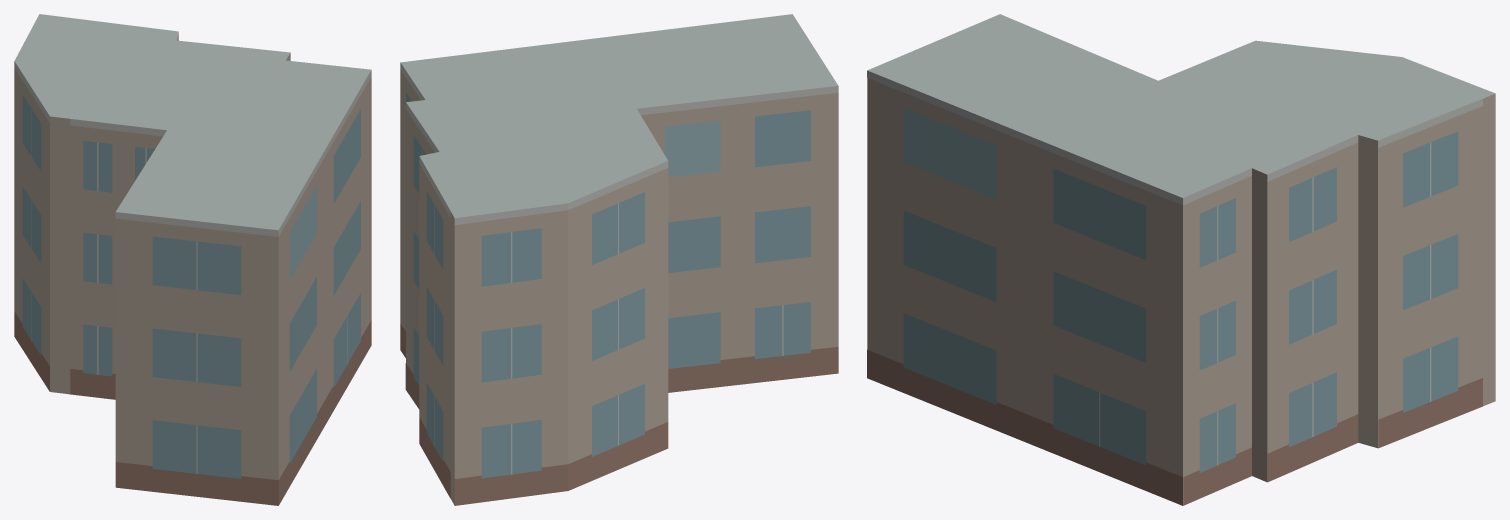
The model's file is survey-upis-32974025.glb.
3 views of the same model, side by side, from view 1: azimuth 30°, elevation 25°; view 2: azimuth 150°, elevation 25°; view 3: azimuth 270°, elevation 25° (orthographic). The views are drawn at different scales.
Parts seen in each view (by area): view 1: survey-upis-32974025.tmp; view 2: survey-upis-32974025.tmp; view 3: survey-upis-32974025.tmp.
Boxes of the visible parts, x1=… form: survey-upis-32974025.tmp: x1=14, y1=14, x2=371, y2=505; survey-upis-32974025.tmp: x1=400, y1=14, x2=838, y2=505; survey-upis-32974025.tmp: x1=867, y1=14, x2=1495, y2=505.
Size of the model in its own units: 13.1 by 10.2 by 18.89.
